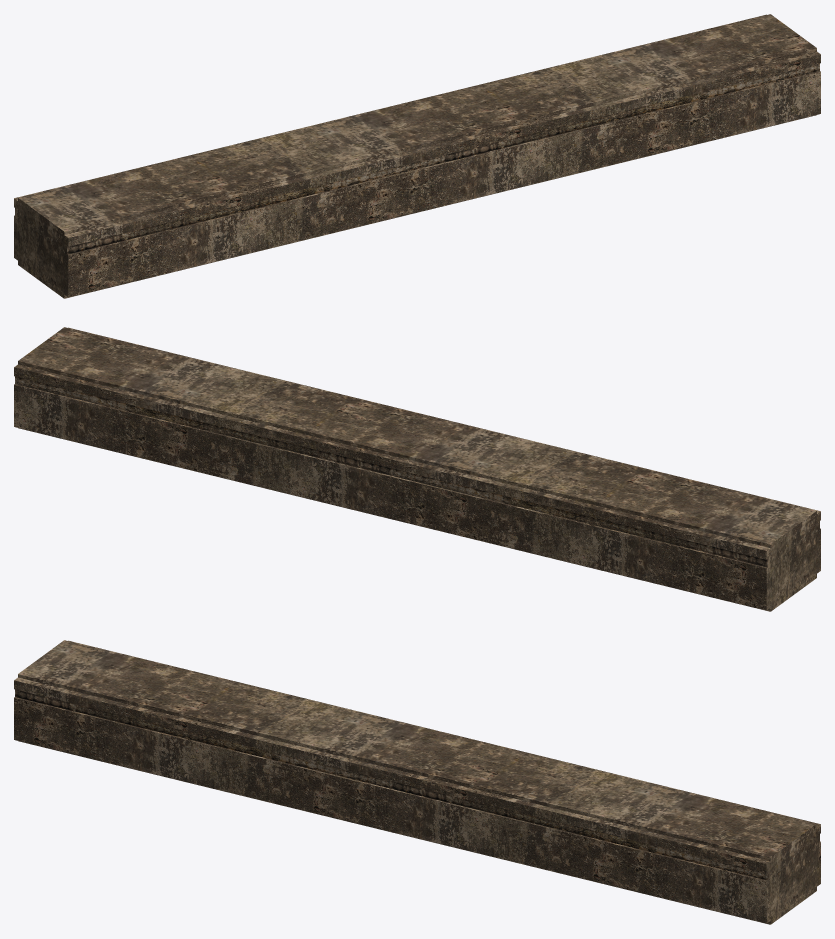
Rendered from materials_5_stonestick_middle_4.fbx.
3 views of the same model, one above another, from view 1: azimuth 30°, elevation 25°; view 2: azimuth 150°, elevation 25°; view 3: azimuth 330°, elevation 25° (orthographic).
Parts seen in each view (by area): view 1: materials_5_stonestick_middle_4; view 2: materials_5_stonestick_middle_4; view 3: materials_5_stonestick_middle_4.
Part boxes in pixels (x1=…): materials_5_stonestick_middle_4: x1=14, y1=14, x2=820, y2=298; materials_5_stonestick_middle_4: x1=14, y1=327, x2=820, y2=611; materials_5_stonestick_middle_4: x1=14, y1=640, x2=820, y2=924.
Size of the model in its own units: 228 by 19.48 by 28.54.
